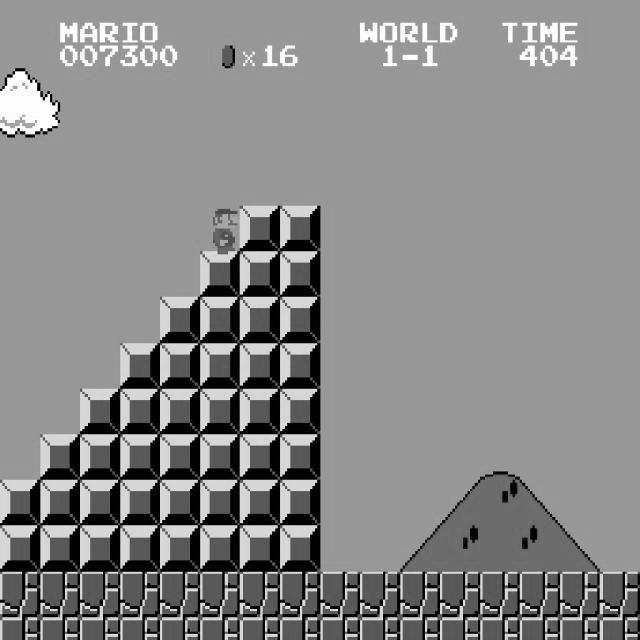11- little_mario: (205, 206, 248, 254)
17- undestructible_block: (599, 571, 640, 617), (0, 571, 40, 617), (40, 572, 80, 618), (80, 572, 120, 618), (120, 572, 160, 618), (160, 572, 200, 618), (200, 572, 240, 618), (240, 572, 280, 618), (280, 572, 320, 618), (320, 572, 360, 618), (360, 572, 400, 618), (400, 572, 440, 618), (440, 572, 480, 618), (480, 572, 520, 618), (520, 572, 560, 618), (560, 572, 600, 618), (40, 617, 80, 640), (80, 617, 120, 640), (120, 617, 160, 640), (160, 617, 200, 640), (200, 617, 240, 640), (240, 617, 280, 640), (280, 617, 320, 640), (320, 617, 360, 640), (360, 617, 400, 640), (400, 617, 440, 640), (440, 617, 480, 640), (480, 617, 520, 640), (520, 617, 560, 640), (560, 617, 600, 640), (599, 617, 640, 639), (0, 617, 40, 639)
9- hard_block: (0, 525, 40, 571), (40, 434, 80, 480), (40, 480, 80, 526), (40, 526, 80, 572), (80, 388, 120, 434), (80, 434, 120, 480), (80, 480, 120, 526), (80, 526, 120, 572), (120, 388, 160, 434), (120, 434, 160, 480), (120, 480, 160, 526), (120, 526, 160, 572), (160, 297, 200, 343), (160, 388, 200, 434), (160, 434, 200, 480), (160, 480, 200, 526), (160, 526, 200, 572), (200, 252, 240, 298), (200, 297, 240, 343), (200, 388, 240, 434), (200, 434, 240, 480), (200, 480, 240, 526), (200, 526, 240, 572), (240, 252, 280, 298), (240, 297, 280, 343), (240, 388, 280, 434), (240, 434, 280, 480), (240, 480, 280, 526), (240, 526, 280, 572), (280, 252, 320, 298), (280, 297, 320, 343), (280, 388, 320, 434), (280, 434, 320, 480), (280, 480, 320, 526), (280, 526, 320, 572), (0, 480, 40, 525), (120, 343, 160, 388), (160, 343, 200, 388), (200, 343, 240, 388), (240, 206, 280, 251), (240, 343, 280, 388), (280, 206, 320, 251), (280, 343, 320, 388)
